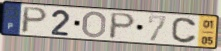2: (49, 7, 74, 37)
7: (147, 14, 168, 43)
C: (170, 17, 198, 45)
O: (81, 10, 108, 39)
P: (20, 6, 50, 35), (107, 12, 137, 40)
